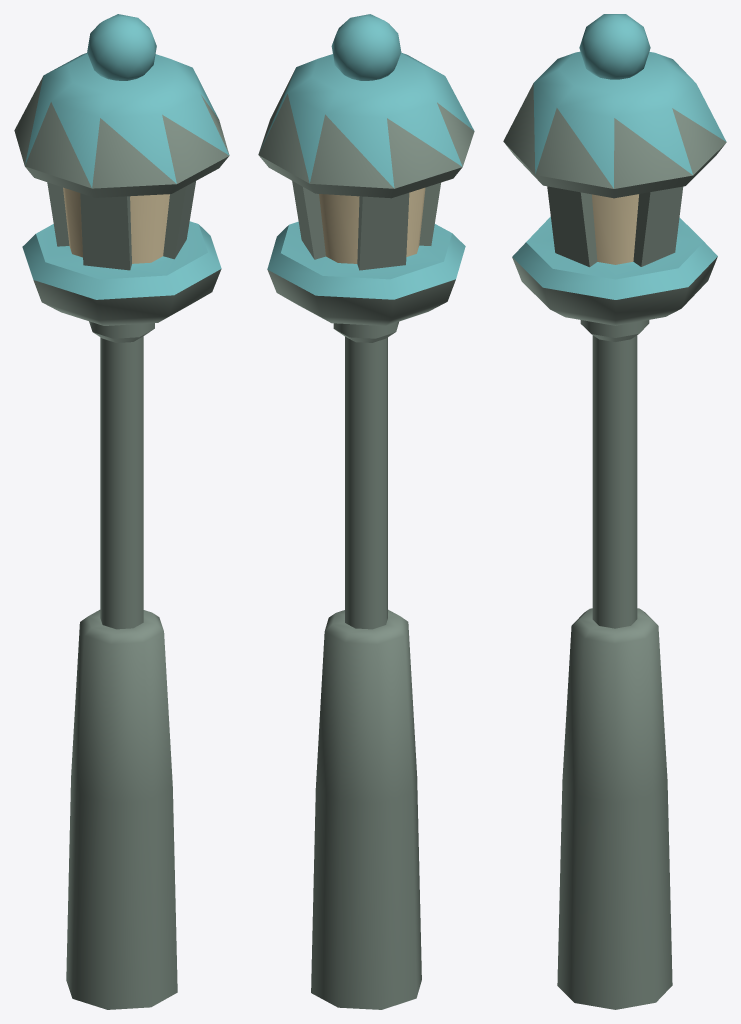
File: itch_tiny_pretty_park_street_lantern.glb
3 views of the same model, side by side, from view 1: azimuth 30°, elevation 25°; view 2: azimuth 150°, elevation 25°; view 3: azimuth 270°, elevation 25° (orthographic).
Visible parts, largest first — view 1: street_lantern; view 2: street_lantern; view 3: street_lantern.
Part boxes in pixels (x1,y1,x2,y2): street_lantern: [14, 14, 229, 1009]; street_lantern: [258, 14, 474, 1009]; street_lantern: [503, 14, 726, 1009].
Bounding box in the file's own units: 0.6683 × 3.2 × 0.6683.
